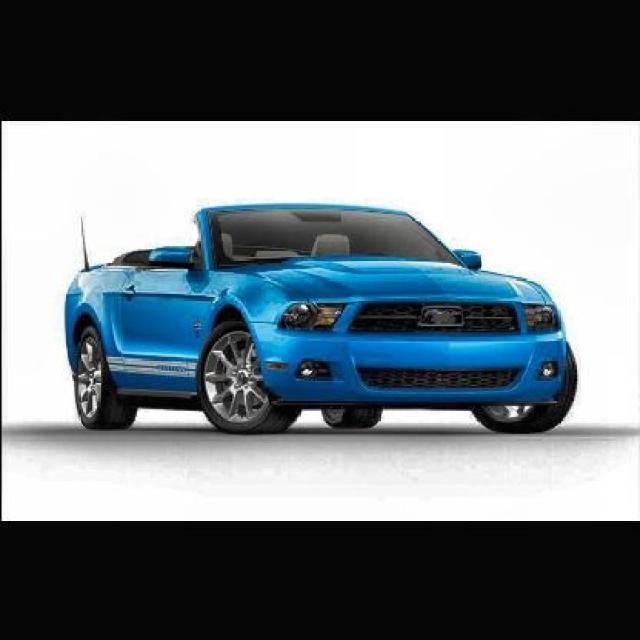blue: (72, 194, 559, 442)
